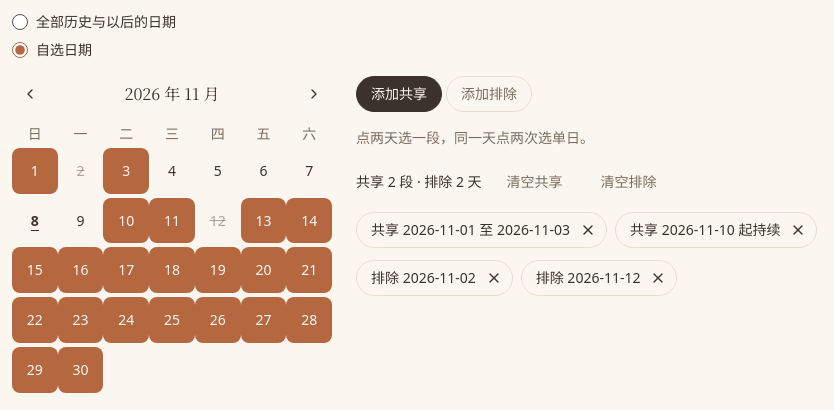
Test case: RangeEditor › clears every shared range, or every exclusion, at once
The width and height of the screenshot is (834, 410).
What coordinates should you click on to do the following:
click the button "清空共享"
I would click on:
 (535, 182)
Its box is [494,164,576,200].
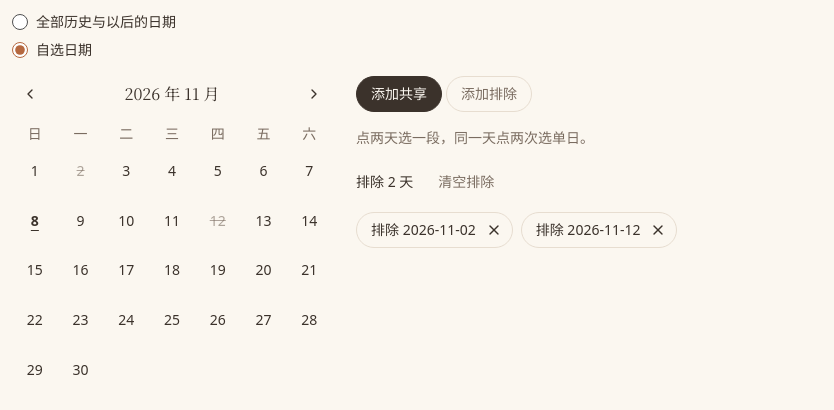
Check: the button "清空共享" is gone
What coordinates should you click on to do the following:
click the button "清空排除"
I would click on:
 (466, 182)
Its box is [425,164,507,200].
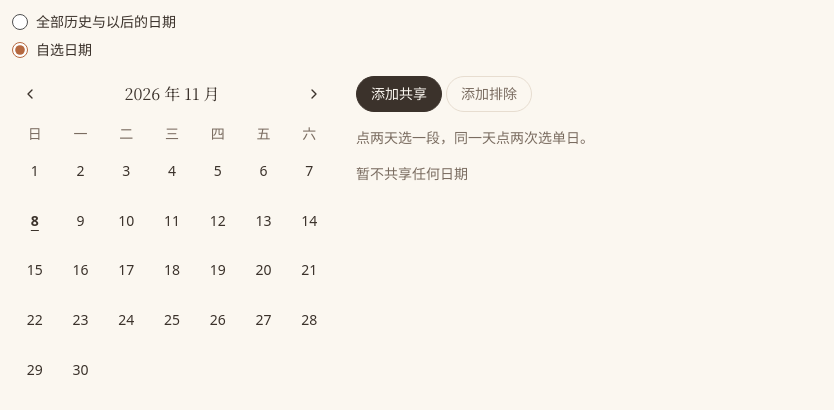
Check: the button "清空排除" is gone
